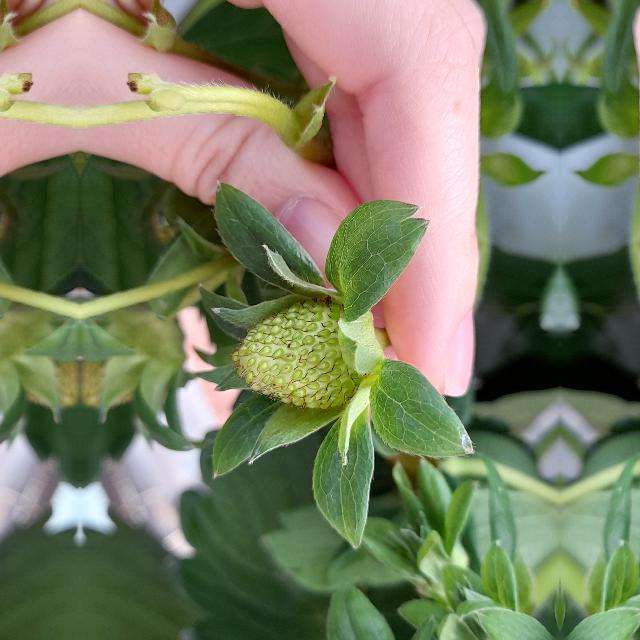Health_25: (230, 296, 370, 414)
